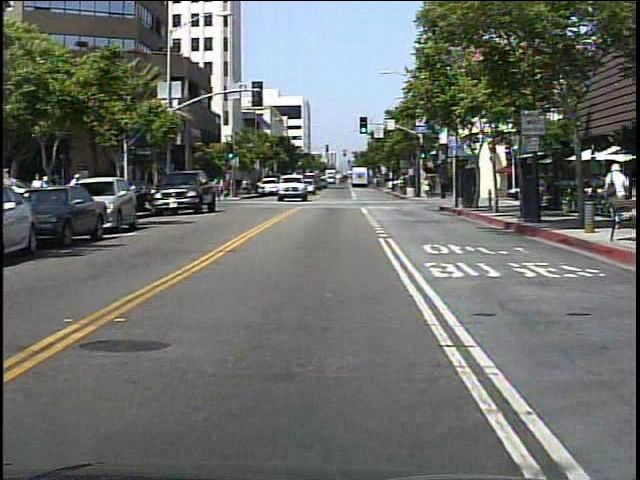person: (598, 158, 631, 226), (215, 175, 227, 203), (420, 177, 432, 200)
